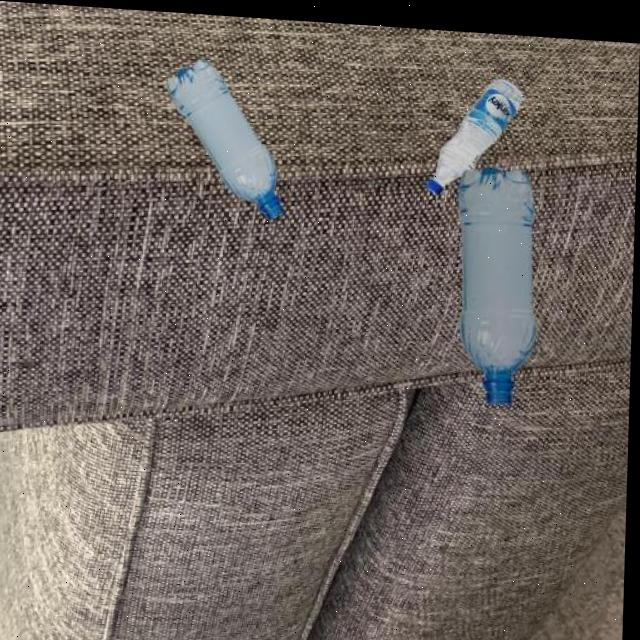bottle: (420, 67, 546, 403), (161, 54, 289, 218), (425, 67, 526, 195)
